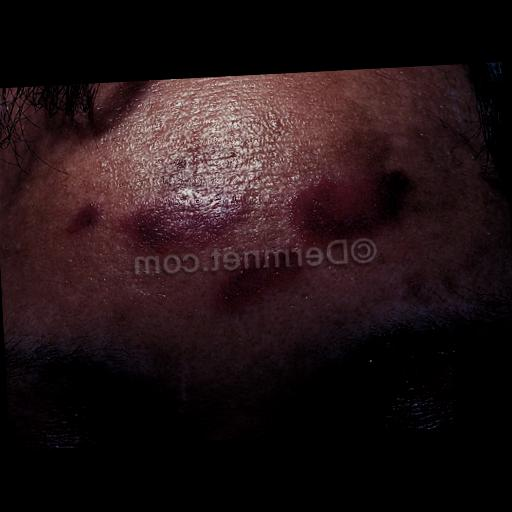Skin_Lesion: (290, 154, 414, 256), (120, 184, 254, 258), (212, 252, 296, 312), (64, 192, 108, 238)
